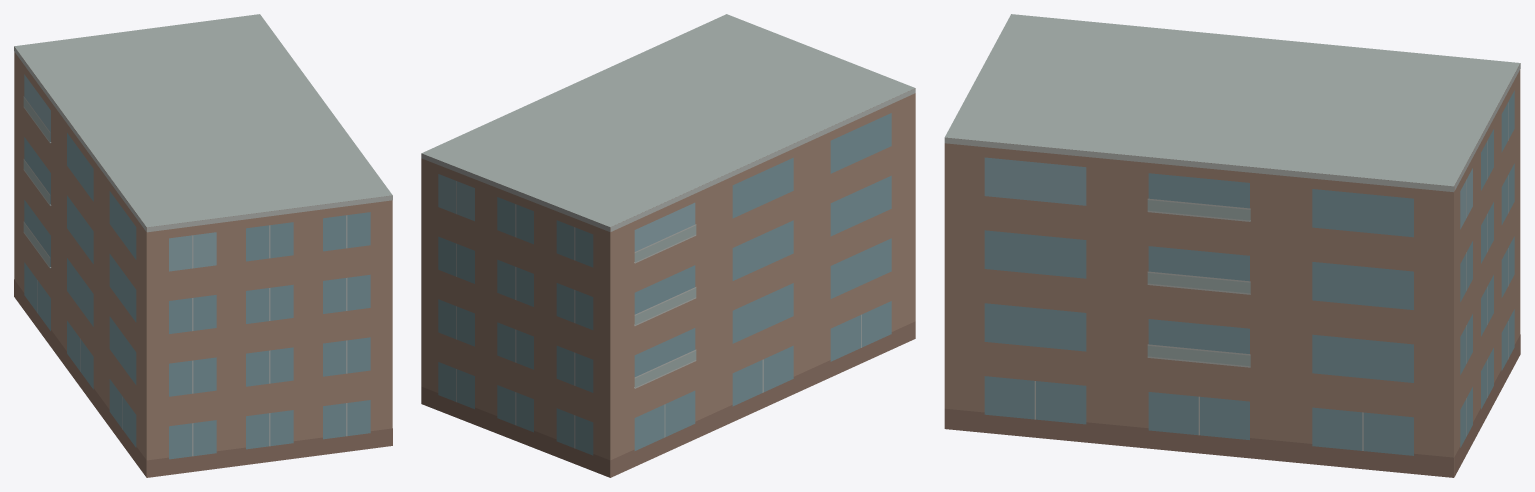
Rendered from residential-e7ef15ef-75c7-4c5f-9261-c15791a1d816.glb.
The picture shows the model from 3 angles, left to right: view 1: azimuth 30°, elevation 25°; view 2: azimuth 150°, elevation 25°; view 3: azimuth 270°, elevation 25°; orthographic projection. The views are drawn at different scales.
Visible parts, largest first — view 1: residential-e7ef15ef-75c7-4c5f-9261-c15791a1d816.tmp; view 2: residential-e7ef15ef-75c7-4c5f-9261-c15791a1d816.tmp; view 3: residential-e7ef15ef-75c7-4c5f-9261-c15791a1d816.tmp.
Part boxes in pixels (box(x1,y1,x2,y2)): residential-e7ef15ef-75c7-4c5f-9261-c15791a1d816.tmp: box(14, 14, 392, 477); residential-e7ef15ef-75c7-4c5f-9261-c15791a1d816.tmp: box(421, 14, 915, 477); residential-e7ef15ef-75c7-4c5f-9261-c15791a1d816.tmp: box(944, 14, 1520, 477).
Size of the model in its own units: 15.48 by 12.2 by 21.85.
